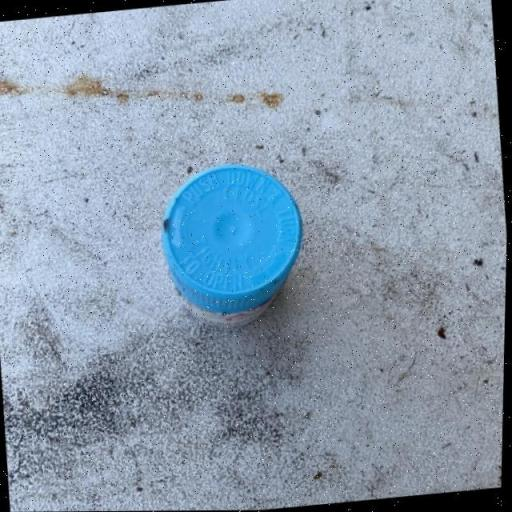plastic: (153, 156, 312, 332)
